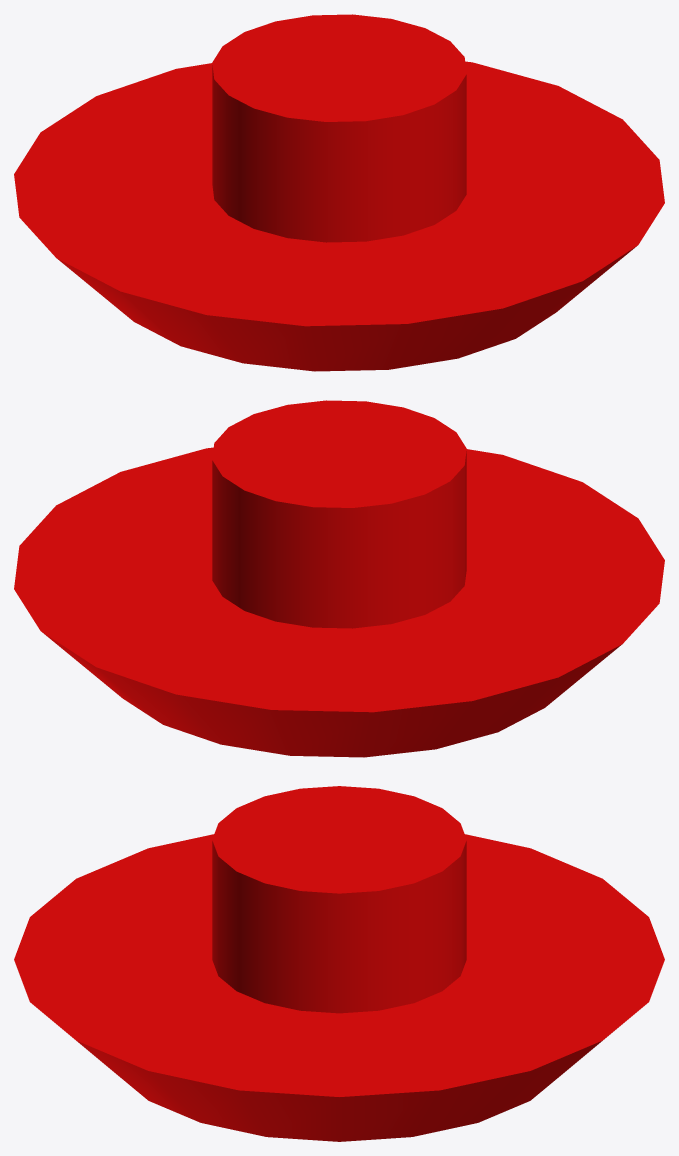
The model's file is LightCandleHolderB06Collider.fbx.
3 renders of one model, top to bottom at view 1: azimuth 30°, elevation 25°; view 2: azimuth 150°, elevation 25°; view 3: azimuth 270°, elevation 25°, orthographic.
Visible parts, largest first — view 1: LightCandleHolderB06Collision; view 2: LightCandleHolderB06Collision; view 3: LightCandleHolderB06Collision.
Boxes of the visible parts, x1,y1,x2,y2 form: LightCandleHolderB06Collision: (14,14,664,371); LightCandleHolderB06Collision: (14,400,664,757); LightCandleHolderB06Collision: (14,786,664,1141).
Bounding box in the file's own units: 8.93 × 3.06 × 8.93.
